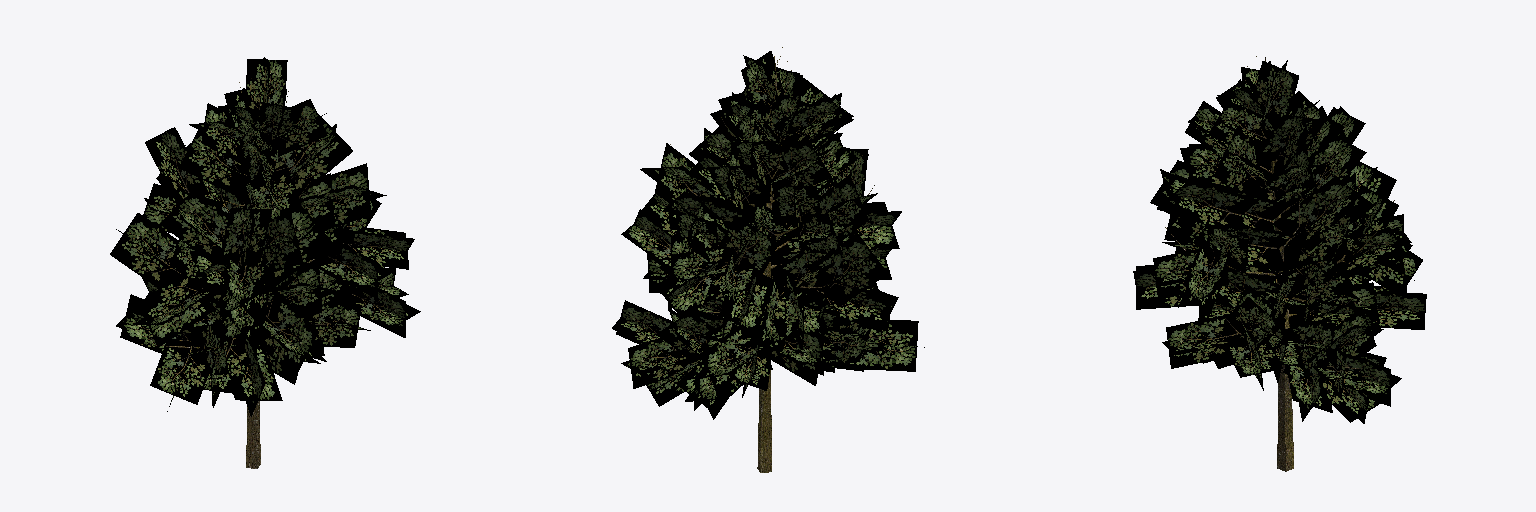
3 views of the same model, side by side, from view 1: azimuth 30°, elevation 25°; view 2: azimuth 150°, elevation 25°; view 3: azimuth 270°, elevation 25° (orthographic).
Parts seen in each view (by area): view 1: branch.002_Плоскость.092, branch.019_Плоскость.025, branch.000_Плоскость.003, branch.005_Плоскость.090, branch.008_Плоскость.012, branch.010_Плоскость.094, branch.084_Плоскость.085, branch.003_Плоскость.093, branch.036_Плоскость.042, branch.057_Плоскость.063, branch.039_Плоскость.045, branch.082_Плоскость.082 (+26 smaller); view 2: branch.000_Плоскость.003, branch.008_Плоскость.012, branch.059_Плоскость.065, branch.071_Плоскость.001, branch.013_Плоскость.017, branch.083_Плоскость.083, branch.043_Плоскость.049, branch.053_Плоскость.059, branch.002_Плоскость.092, branch.005_Плоскость.090, branch.057_Плоскость.063, branch.012_Плоскость.016 (+28 smaller); view 3: branch.083_Плоскость.083, branch.003_Плоскость.093, branch.077_Плоскость.077, tree_Mesh.001, branch.069_Плоскость.075, branch.010_Плоскость.094, branch.036_Плоскость.042, branch.063_Плоскость.069, branch.013_Плоскость.017, branch.071_Плоскость.001, branch.024_Плоскость.030, branch.054_Плоскость.060 (+28 smaller).
Part boxes in pixels (bbox=[...]): branch.002_Плоскость.092: bbox=[133, 270, 216, 347]; branch.019_Плоскость.025: bbox=[258, 290, 326, 378]; branch.000_Плоскость.003: bbox=[110, 213, 191, 288]; branch.005_Плоскость.090: bbox=[160, 189, 228, 263]; branch.008_Плоскость.012: bbox=[150, 333, 210, 411]; branch.010_Плоскость.094: bbox=[258, 114, 352, 195]; branch.084_Плоскость.085: bbox=[218, 195, 272, 277]; branch.003_Плоскость.093: bbox=[319, 163, 386, 230]; branch.036_Плоскость.042: bbox=[337, 228, 414, 269]; branch.057_Плоскость.063: bbox=[179, 130, 248, 197]; branch.039_Плоскость.045: bbox=[145, 127, 208, 200]; branch.082_Плоскость.082: bbox=[308, 245, 392, 298]; branch.000_Плоскость.003: bbox=[808, 233, 888, 307]; branch.008_Плоскость.012: bbox=[836, 319, 924, 371]; branch.059_Плоскость.065: bbox=[773, 93, 853, 147]; branch.071_Плоскость.001: bbox=[621, 338, 700, 388]; branch.013_Плоскость.017: bbox=[692, 325, 770, 399]; branch.083_Плоскость.083: bbox=[640, 143, 724, 210]; branch.043_Плоскость.049: bbox=[719, 212, 778, 279]; branch.053_Плоскость.059: bbox=[707, 146, 770, 221]; branch.002_Плоскость.092: bbox=[803, 287, 898, 331]; branch.005_Плоскость.090: bbox=[819, 174, 877, 241]; branch.057_Плоскость.063: bbox=[763, 139, 832, 187]; branch.012_Плоскость.016: bbox=[765, 332, 840, 385]; branch.083_Плоскость.083: bbox=[1273, 172, 1374, 255]; branch.003_Плоскость.093: bbox=[1157, 173, 1258, 237]; branch.077_Плоскость.077: bbox=[1162, 314, 1245, 368]; tree_Mesh.001: bbox=[1165, 56, 1394, 471]; branch.069_Плоскость.075: bbox=[1256, 98, 1325, 175]; branch.010_Плоскость.094: bbox=[1203, 126, 1279, 193]; branch.036_Плоскость.042: bbox=[1178, 237, 1231, 317]; branch.063_Плоскость.069: bbox=[1254, 60, 1298, 131]; branch.013_Плоскость.017: bbox=[1374, 291, 1426, 329]; branch.071_Плоскость.001: bbox=[1316, 348, 1401, 406]; branch.024_Плоскость.030: bbox=[1331, 227, 1407, 278]; branch.054_Плоскость.060: bbox=[1255, 144, 1329, 213].
Size of the model in its own units: 0.6638 by 1.01 by 0.6325.
Materials: 2 (2 with a texture image).